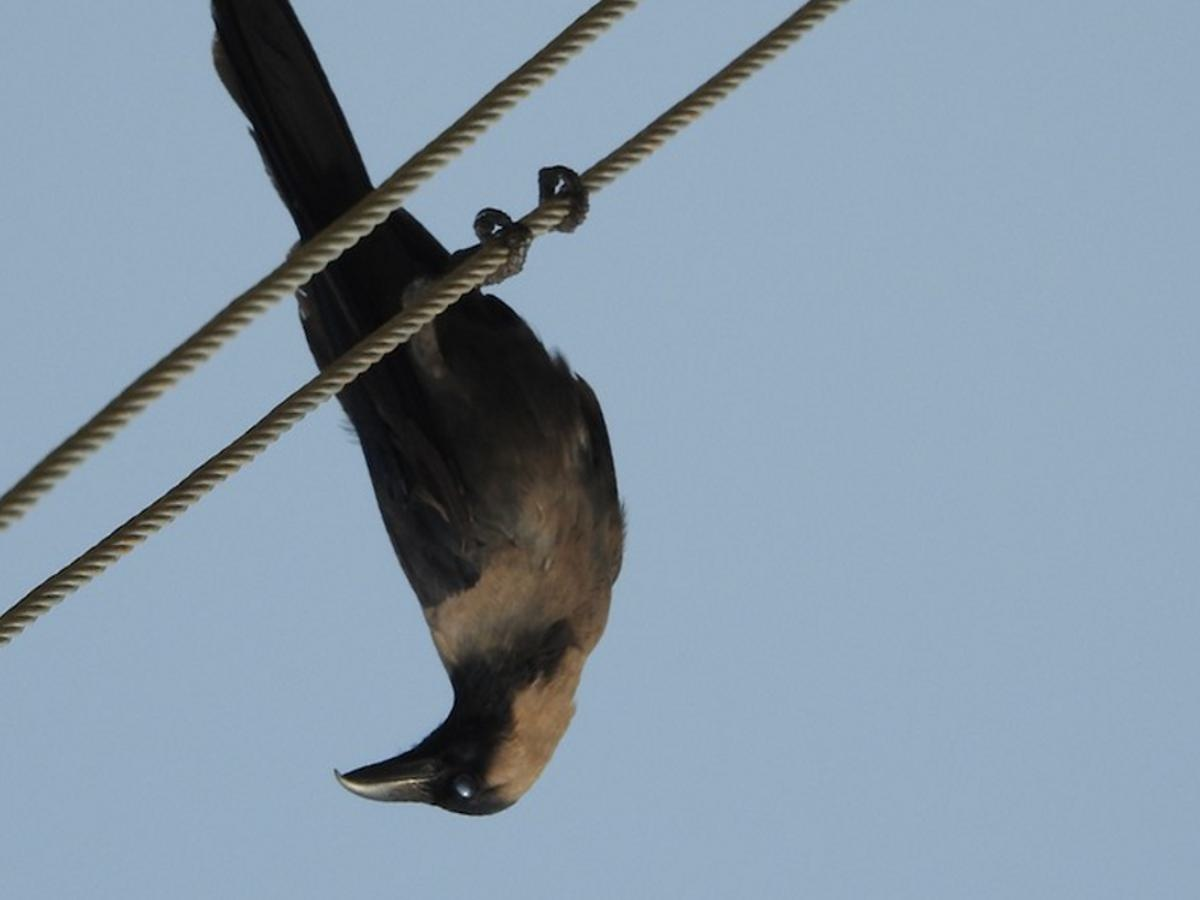crow: (203, 4, 655, 867)
